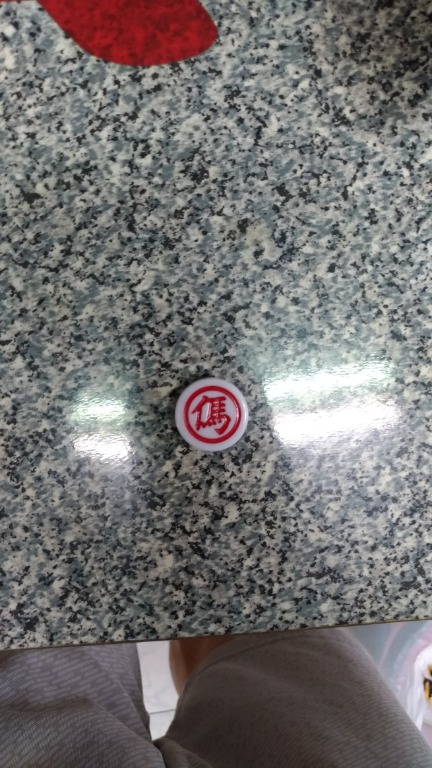r-knight: (167, 377, 260, 457)
